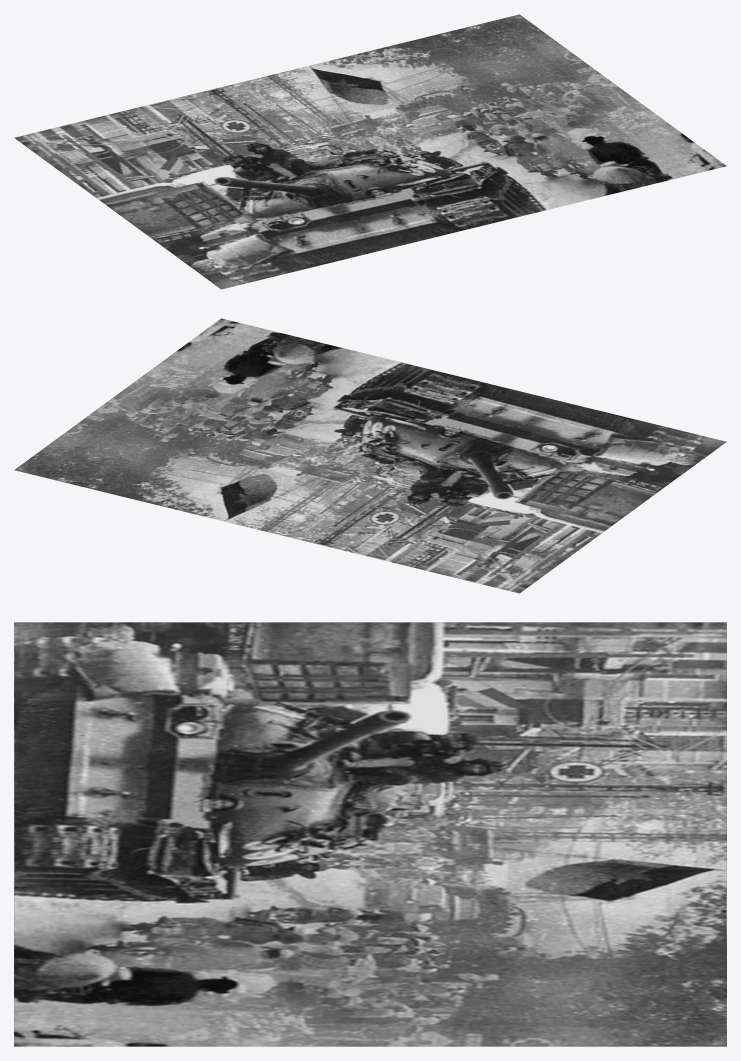
3 views of the same model, one above another, from view 1: azimuth 30°, elevation 25°; view 2: azimuth 150°, elevation 25°; view 3: azimuth 270°, elevation 25° (orthographic). The views are drawn at different scales.
Visible parts, largest first — view 1: Plane; view 2: Plane; view 3: Plane.
Boxes of the visible parts, x1,y1,x2,y2 form: Plane: (14,14,726,289); Plane: (14,318,726,593); Plane: (14,622,726,1046).
Bounding box in the file's own units: 563 × 0 × 400.
1 material, 1 textured.
